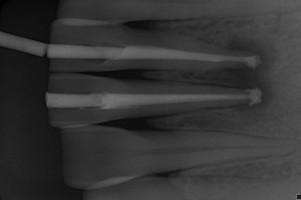Furcation Involvement: (197, 38, 273, 111)
